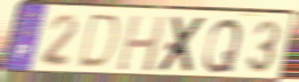2: (38, 13, 80, 70)
3: (245, 18, 283, 76)
D: (74, 12, 123, 72)
H: (115, 13, 169, 74)
Q: (201, 17, 245, 75)
X: (154, 16, 210, 74)
